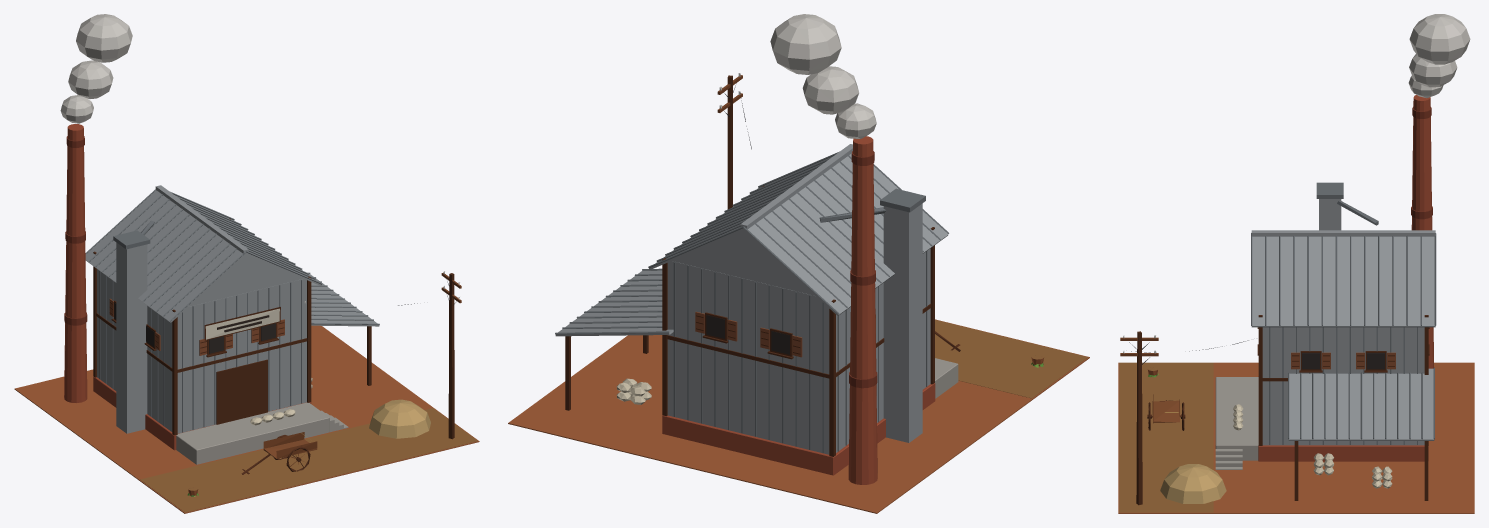
Rendered from factory_3.glb.
3 views of the same model, side by side, from view 1: azimuth 30°, elevation 25°; view 2: azimuth 150°, elevation 25°; view 3: azimuth 270°, elevation 25° (orthographic). The views are drawn at different scales.
Visible parts, largest first — view 1: body, windows; view 2: body, windows; view 3: body, windows.
Boxes of the visible parts, x1,y1,x2,y2 form: body: (14,14,479,513); windows: (114,303,275,353); body: (508,14,1089,513); windows: (706,315,789,354); body: (1118,14,1474,513); windows: (1302,353,1384,369).
Size of the model in its own units: 15.9 by 19.2 by 15.9.
